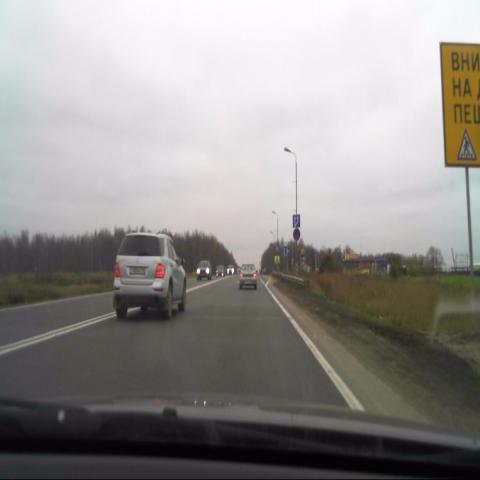1_22: (456, 129, 477, 159)
3_27: (292, 228, 300, 241)
5_15_3: (292, 214, 300, 227)
